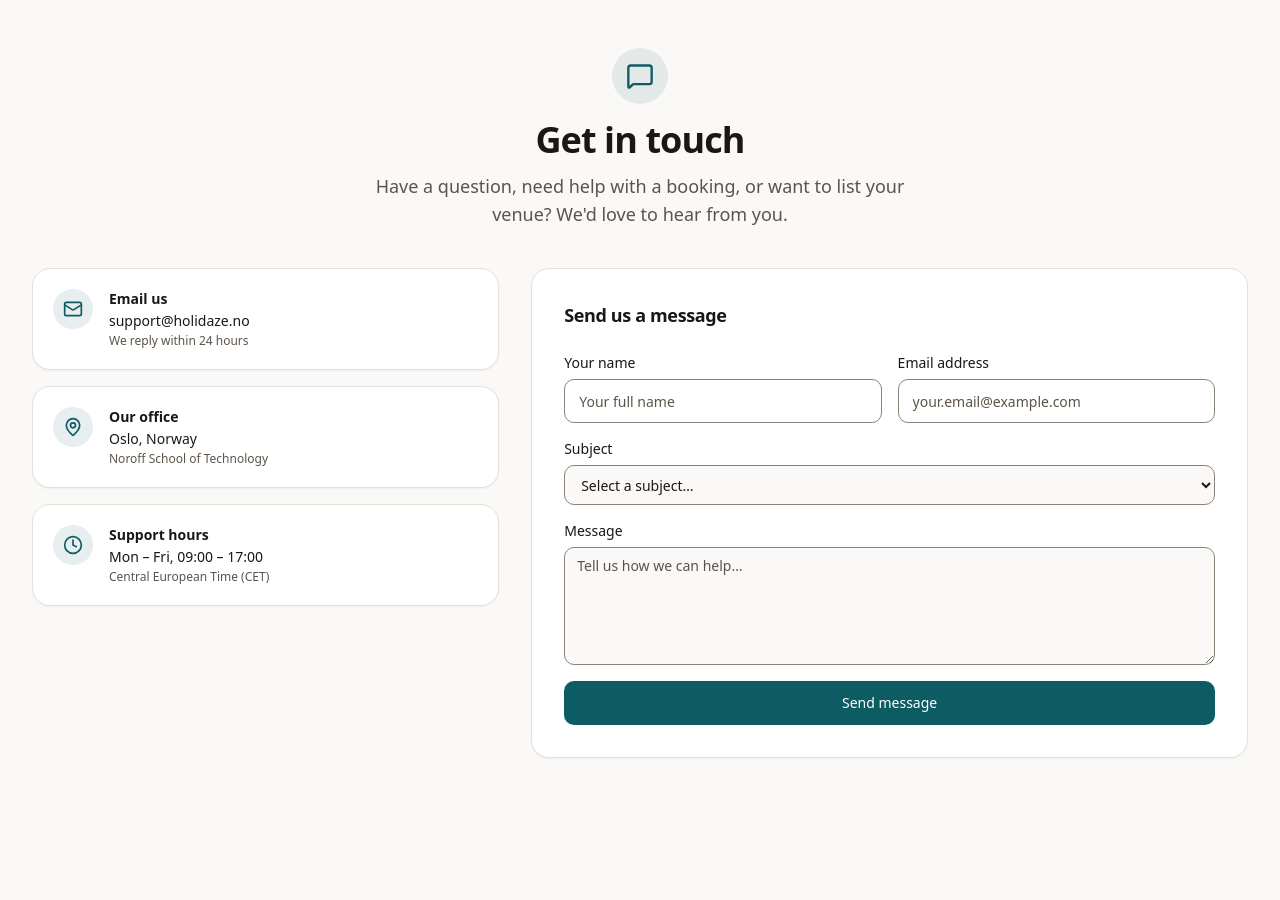
it: ContactPage — validation › shows message error when message is too short
In the text box labelled "Message": (890, 606) [564, 547, 1215, 665], type "Too short"
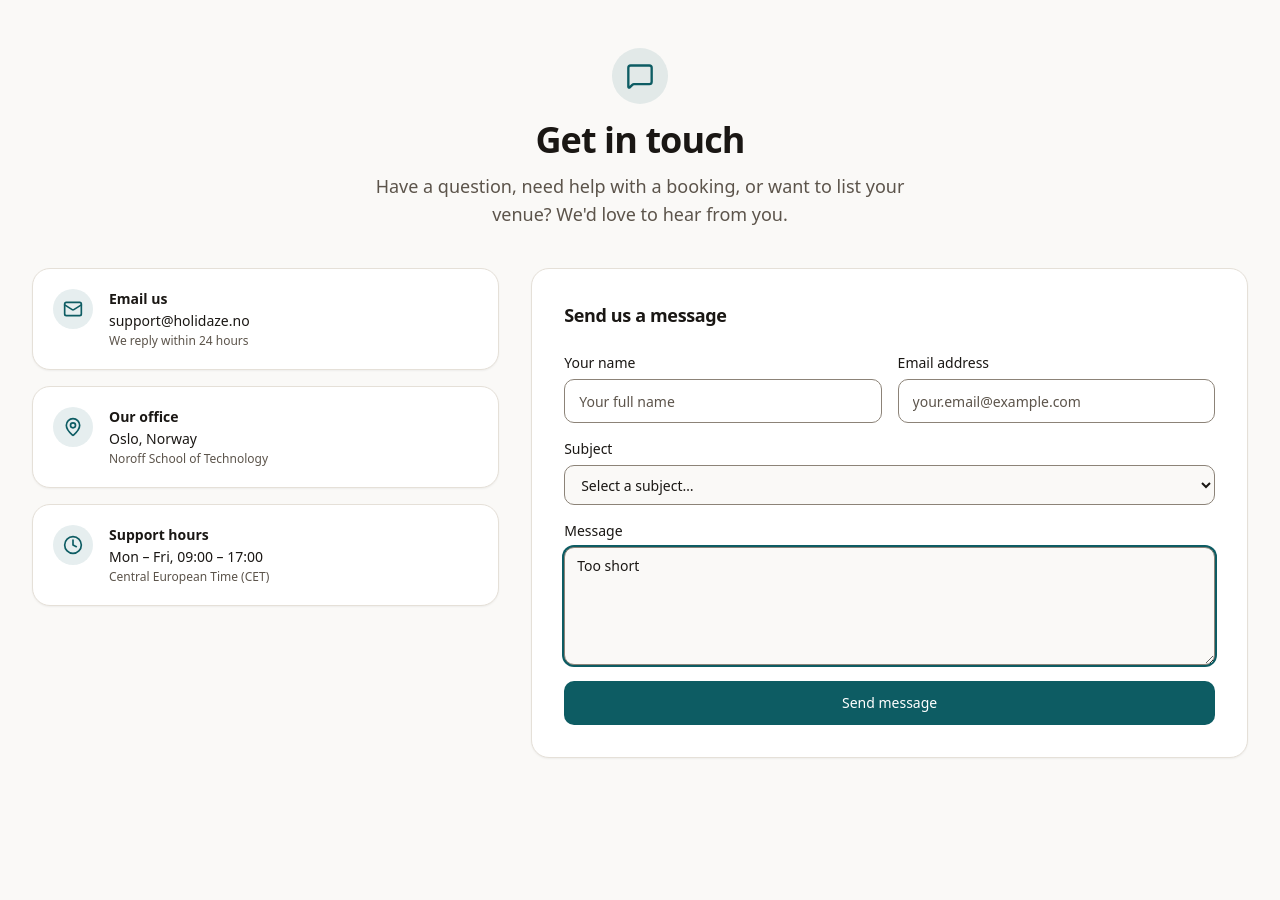
Click the button "Send message": (890, 703) [564, 681, 1215, 725]
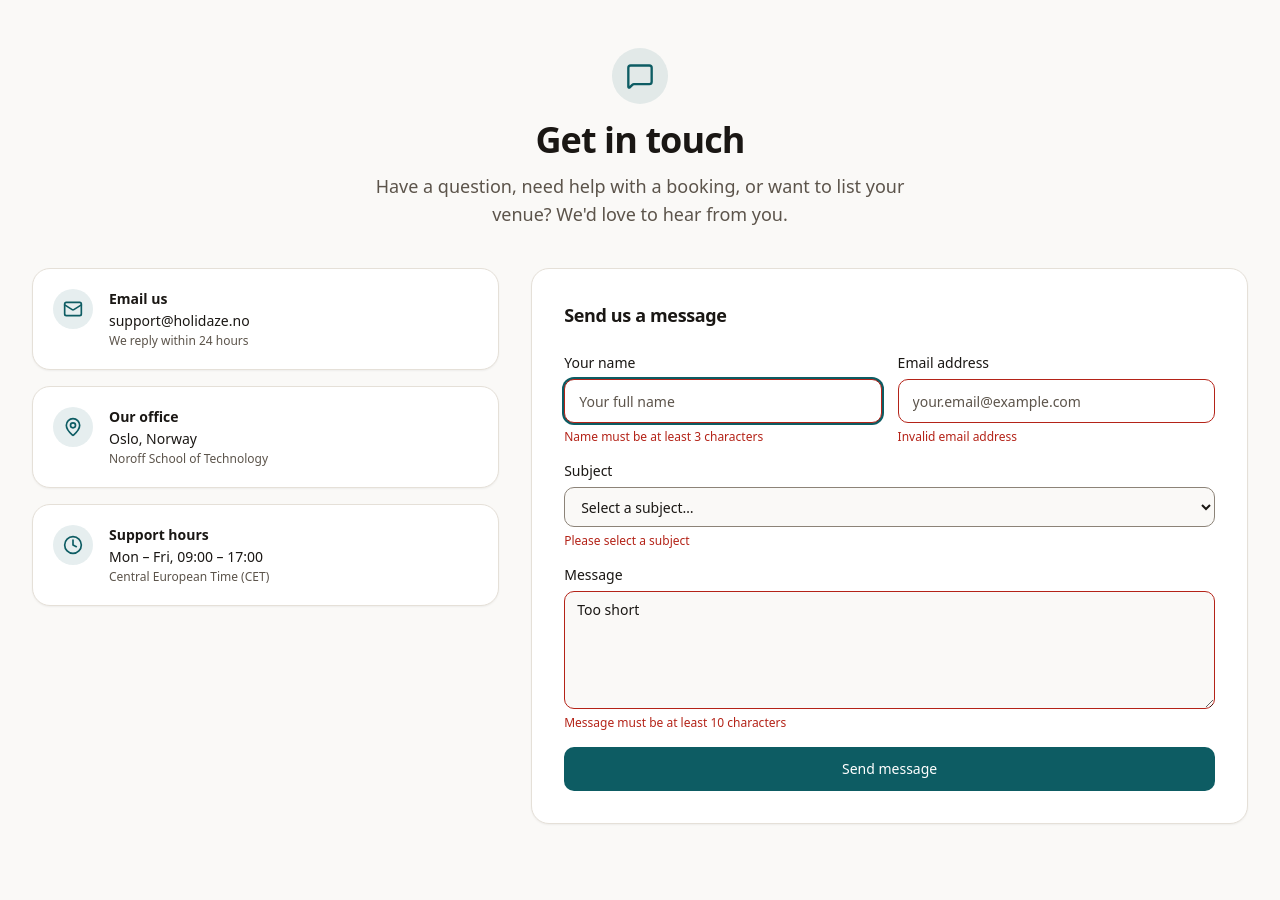
Now the text "Message must be at least 10 characters" is shown, box [564, 714, 786, 731]
